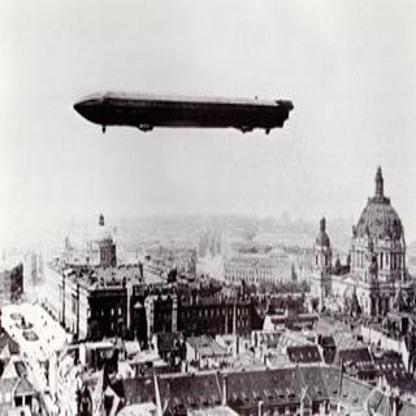Airship: (69, 86, 301, 142)
